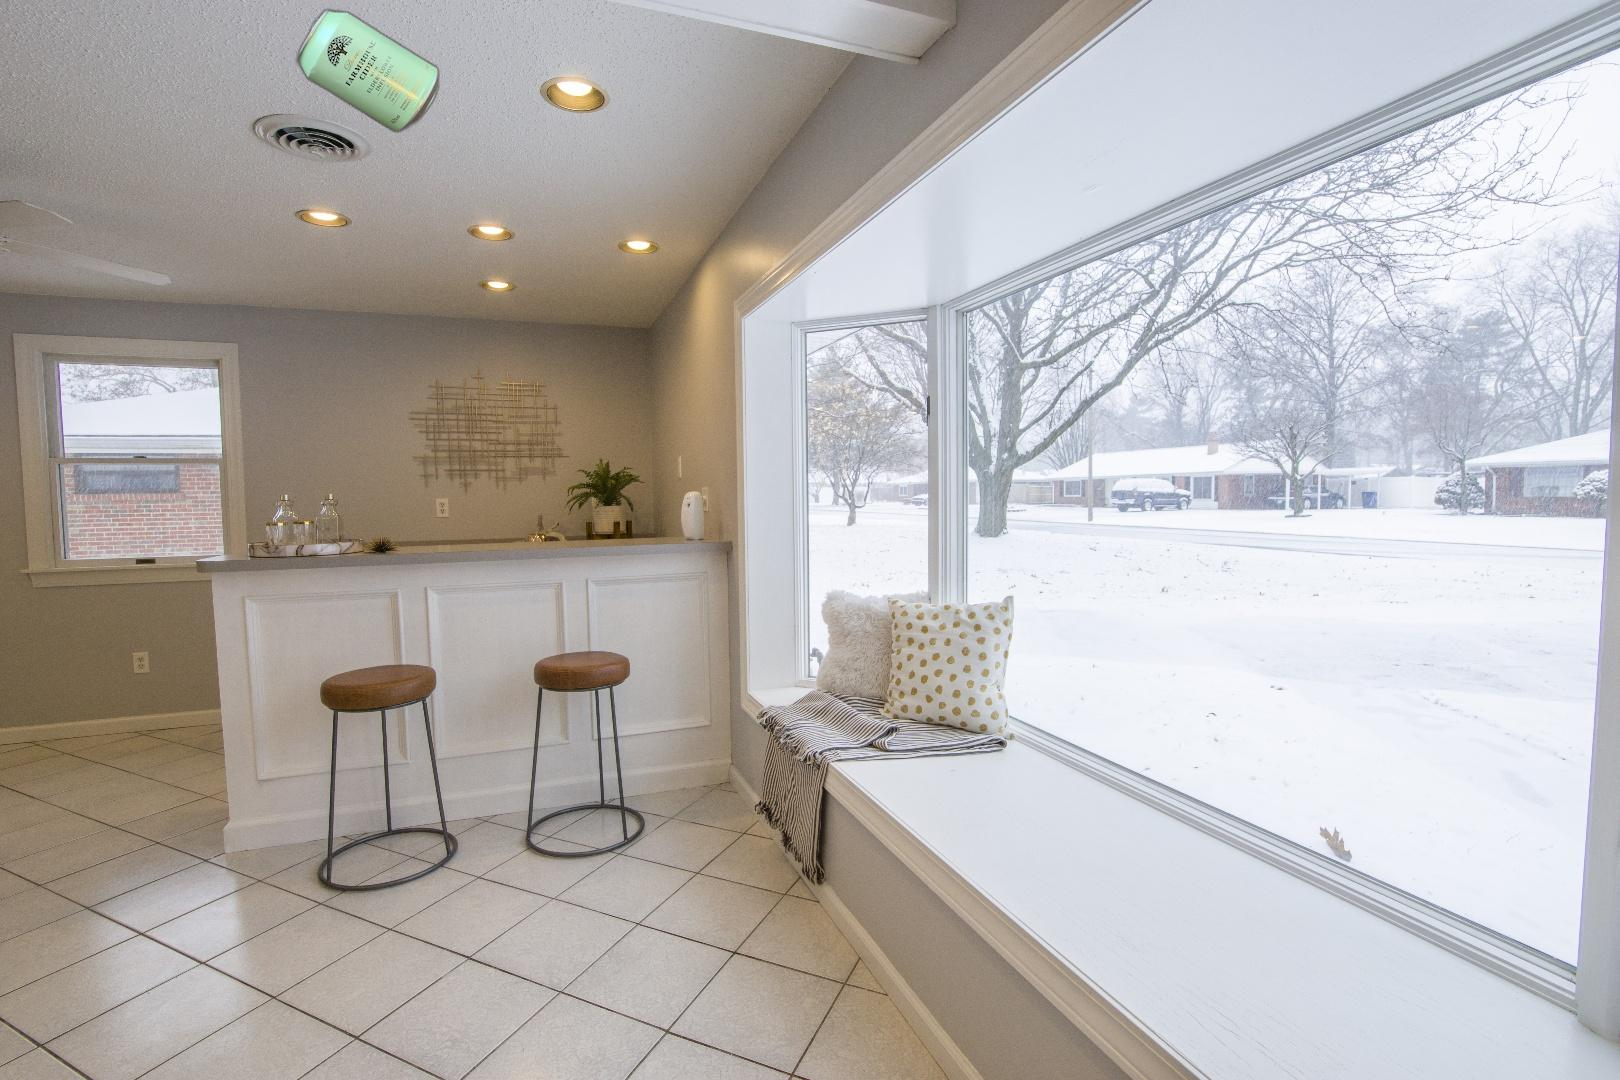metal-cans: (293, 3, 444, 138)
